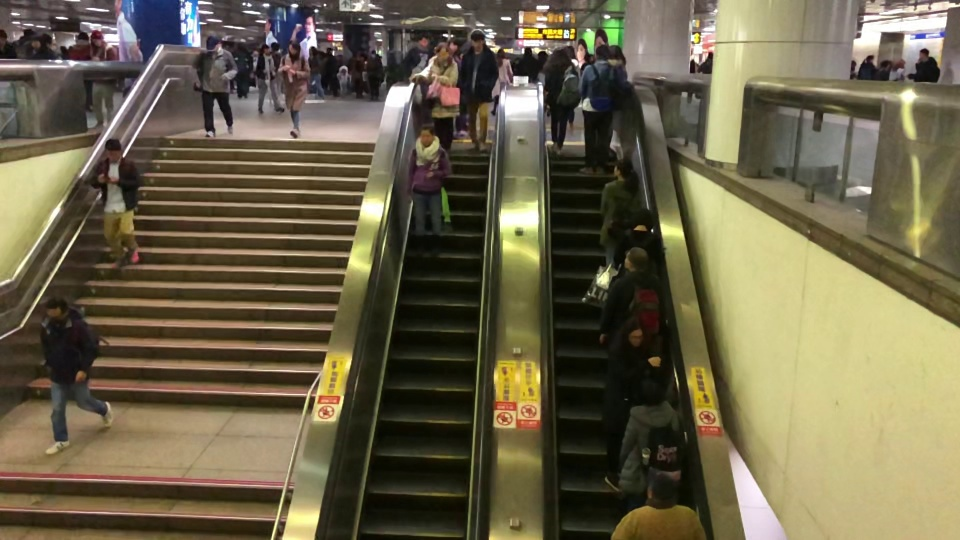person_head: (646, 473, 678, 502), (639, 378, 665, 403), (624, 247, 649, 271), (43, 296, 69, 318), (626, 317, 644, 342), (614, 157, 635, 178), (634, 208, 654, 228), (103, 138, 121, 160), (419, 123, 435, 146), (470, 30, 485, 51), (436, 42, 451, 61), (204, 35, 221, 51), (609, 44, 625, 60), (29, 36, 45, 50), (595, 45, 609, 60), (91, 30, 104, 45), (418, 33, 430, 47), (289, 40, 300, 55), (552, 48, 565, 58), (919, 48, 929, 61), (0, 29, 7, 47), (565, 46, 576, 57), (76, 31, 89, 40), (496, 47, 506, 57), (261, 44, 270, 54), (894, 58, 904, 67), (308, 45, 317, 54), (881, 60, 890, 69), (523, 47, 532, 55), (865, 54, 873, 61), (850, 59, 855, 70), (708, 51, 713, 59)
person_vbox: (39, 295, 114, 458), (601, 317, 660, 495), (619, 378, 685, 498), (89, 139, 143, 270), (578, 42, 627, 175), (611, 473, 708, 540), (405, 123, 451, 258), (598, 247, 663, 341), (191, 35, 239, 139), (598, 157, 642, 270), (414, 43, 459, 150), (461, 30, 499, 152), (542, 48, 580, 156), (278, 40, 310, 138), (613, 208, 654, 270), (90, 31, 116, 127), (257, 44, 285, 114), (67, 31, 91, 110), (401, 31, 431, 82), (490, 47, 512, 116), (307, 46, 324, 104), (906, 48, 932, 82), (25, 36, 55, 59), (517, 47, 538, 78), (858, 54, 876, 80), (0, 29, 16, 57), (889, 58, 905, 81), (697, 51, 713, 73), (877, 60, 891, 80), (850, 58, 856, 78)
